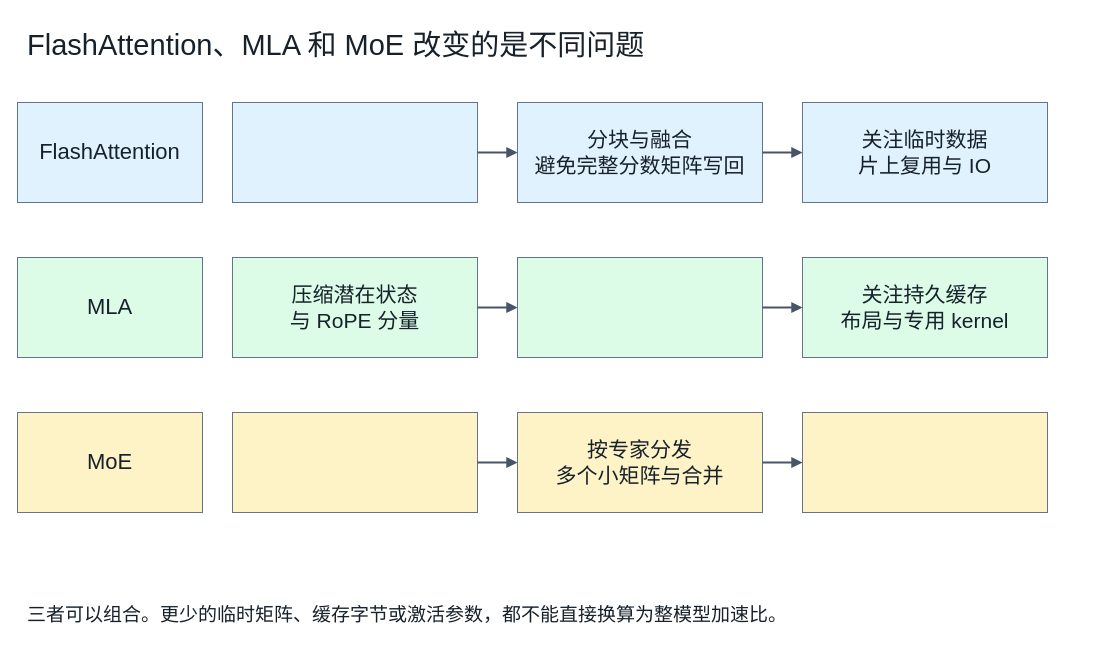
The diagram is 1095 pixels wide and 669 high, and some of its shapes have lost their labels. The shapes that lost their labels are listed below. From the top down, each one's centre as x and y in pixels, then its label:
point 355,152: Q、K、V 数学语义不变
point 639,307: 变换投影顺序 在潜在空间做聚合
point 355,462: 每个 token 的 路由评分与 Top-k
point 925,462: 关注负载分布 调度与数据搬运
